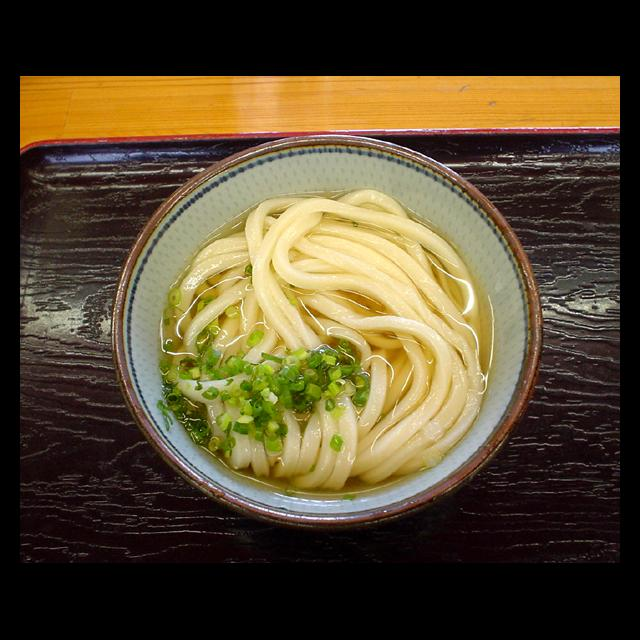noodles: (166, 188, 489, 491)
